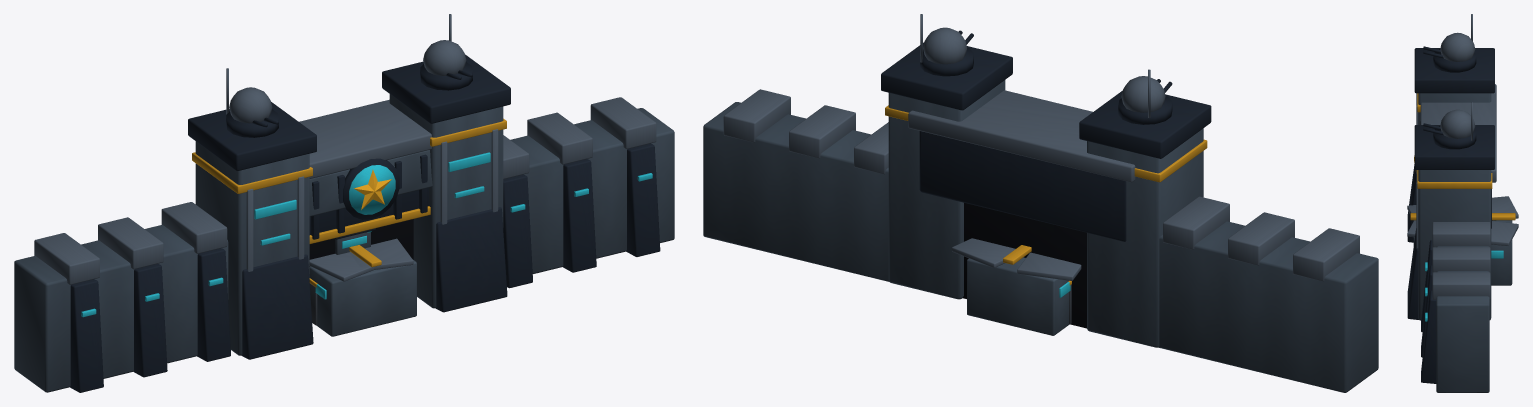
File: env_military_pack.glb
The picture shows the model from 3 angles, left to right: view 1: azimuth 30°, elevation 25°; view 2: azimuth 150°, elevation 25°; view 3: azimuth 270°, elevation 25°; orthographic projection. The views are drawn at different scales.
Visible parts, largest first — view 1: BunkerGate, ArmoredHangar, Watchtower; view 2: BunkerGate, ArmoredHangar; view 3: BunkerGate, ArmoredHangar.
Boxes of the visible parts, bbox=[...] form: BunkerGate: bbox=[14, 14, 674, 392]; ArmoredHangar: bbox=[309, 238, 416, 336]; Watchtower: bbox=[334, 228, 375, 254]; BunkerGate: bbox=[703, 14, 1378, 392]; ArmoredHangar: bbox=[952, 238, 1081, 335]; BunkerGate: bbox=[1407, 14, 1496, 392]; ArmoredHangar: bbox=[1407, 196, 1518, 285].
Size of the model in its own units: 39.6 by 15.64 by 7.49.
1 material, 1 textured.
